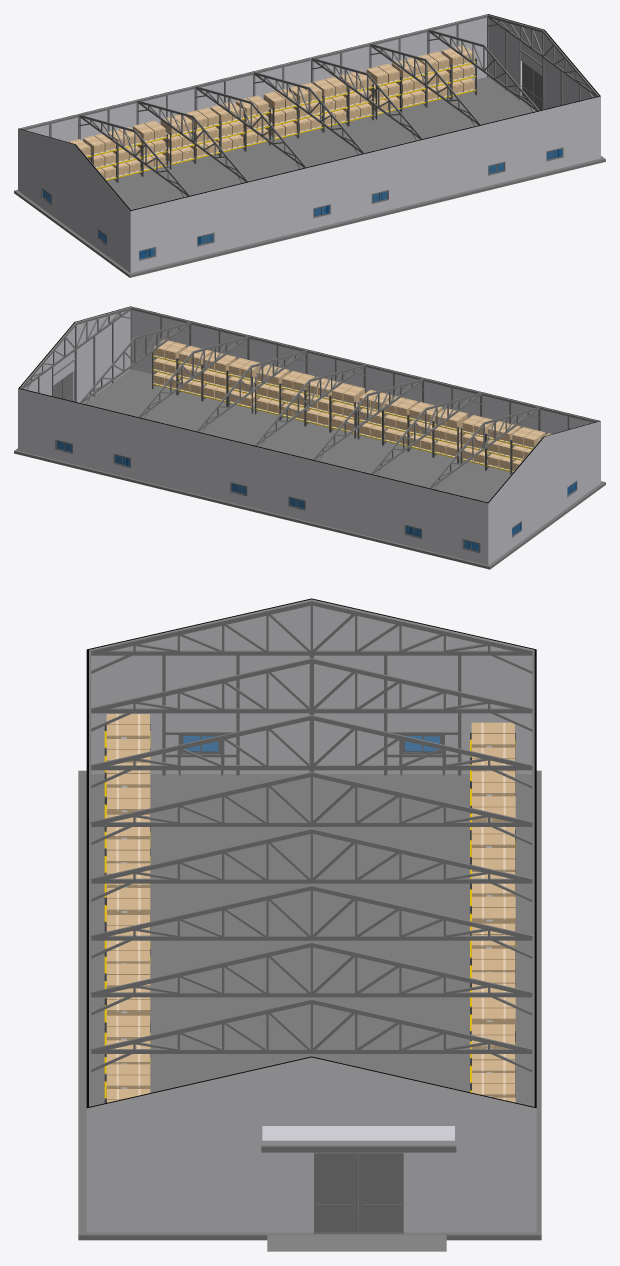
3 views of the same model, one above another, from view 1: azimuth 30°, elevation 25°; view 2: azimuth 150°, elevation 25°; view 3: azimuth 270°, elevation 25° (orthographic). The views are drawn at different scales.
Visible parts, largest first — view 1: Rectangle092, Box673, S6, PalletBox [264]013, PalletBox [264]012, PalletBox [264]011, PalletBox [264]010, Box708, Box715; view 2: Rectangle092, Box673, S6, PalletBox [264]015, PalletBox [264]016, PalletBox [264]017, PalletBox [264]014, Box708, Box715; view 3: Rectangle092, Box673, S6, Box715, PalletBox [264]014, PalletBox [264]011, PalletBox [264]010, PalletBox [264]015, PalletBox [264]016, PalletBox [264]012, PalletBox [264]017, PalletBox [264]013 (+1 smaller).
Boxes of the visible parts, bbox=[...] form: Rectangle092: bbox=[18, 14, 600, 272]; Box673: bbox=[14, 77, 605, 277]; S6: bbox=[79, 29, 539, 196]; PalletBox [264]013: bbox=[366, 45, 476, 119]; PalletBox [264]012: bbox=[263, 70, 373, 139]; PalletBox [264]011: bbox=[160, 95, 270, 169]; PalletBox [264]010: bbox=[68, 120, 167, 182]; Box708: bbox=[41, 147, 563, 260]; Box715: bbox=[521, 61, 542, 110]; Rectangle092: bbox=[18, 306, 600, 565]; Box673: bbox=[14, 369, 605, 569]; S6: bbox=[79, 322, 539, 489]; PalletBox [264]015: bbox=[357, 390, 467, 463]; PalletBox [264]016: bbox=[255, 364, 364, 438]; PalletBox [264]017: bbox=[152, 339, 261, 413]; PalletBox [264]014: bbox=[460, 415, 551, 474]; Box708: bbox=[55, 439, 577, 553]; Box715: bbox=[53, 371, 73, 401]; Rectangle092: bbox=[86, 598, 536, 1232]; Box673: bbox=[78, 770, 541, 1251]; S6: bbox=[89, 658, 533, 1072]; Box715: bbox=[261, 1145, 456, 1233]; PalletBox [264]014: bbox=[104, 714, 150, 821]; PalletBox [264]011: bbox=[470, 827, 515, 931]; PalletBox [264]010: bbox=[470, 722, 515, 833]; PalletBox [264]015: bbox=[104, 814, 150, 924]; PalletBox [264]016: bbox=[104, 915, 150, 1025]; PalletBox [264]012: bbox=[470, 923, 515, 1034]; PalletBox [264]017: bbox=[104, 1015, 150, 1103]; PalletBox [264]013: bbox=[470, 1024, 515, 1102].
Size of the model in its own units: 50.27 by 8.88 by 20.7.
